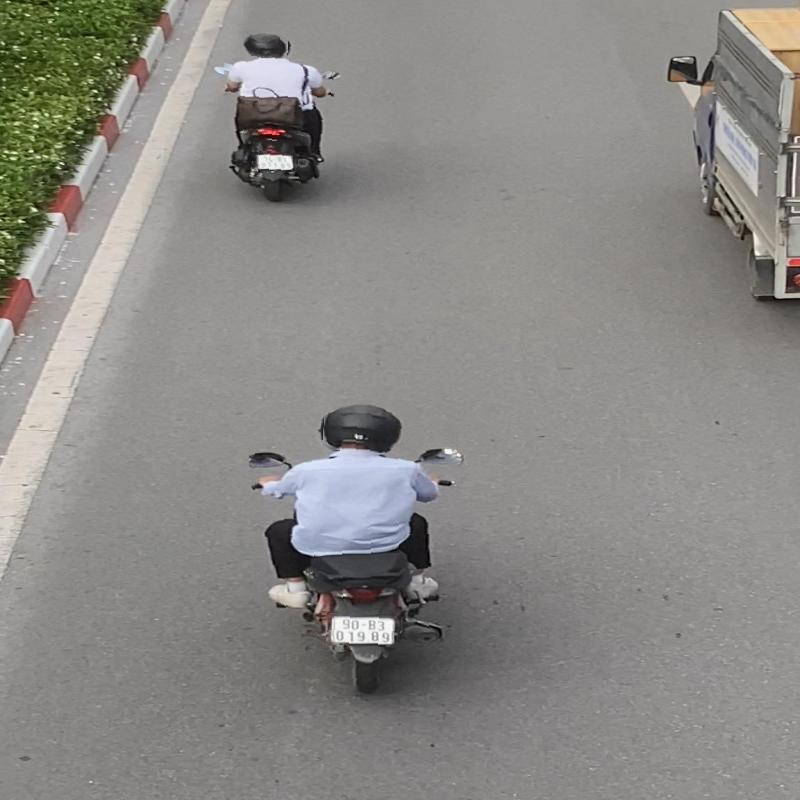helmet: (323, 402, 405, 453), (243, 32, 288, 58)
licenseplate: (327, 614, 401, 646), (253, 151, 298, 172)
motorcyclist: (250, 402, 462, 697), (218, 32, 342, 205)
